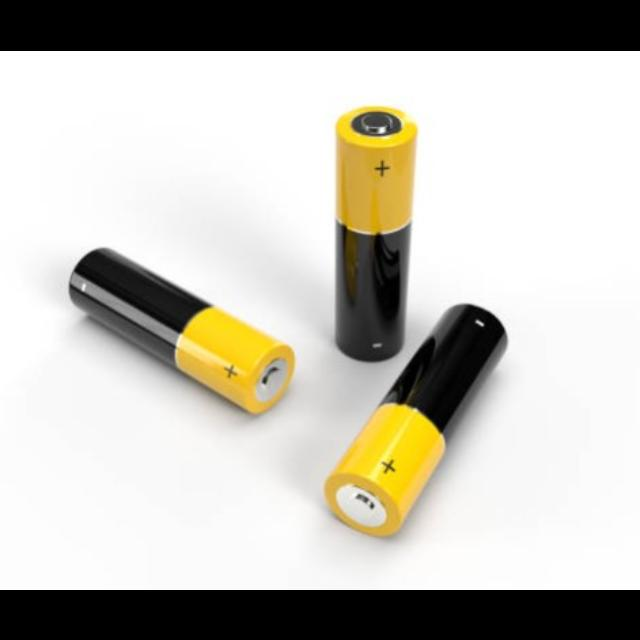Battery: (326, 304, 508, 536), (69, 248, 295, 413), (336, 104, 419, 360)
